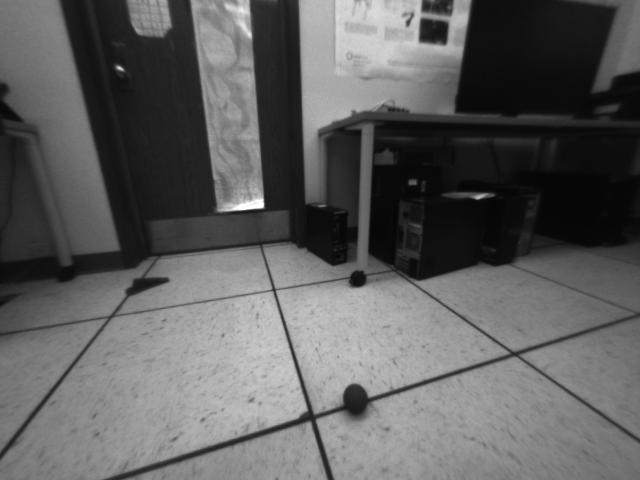dogtoy: (334, 379, 376, 419)
